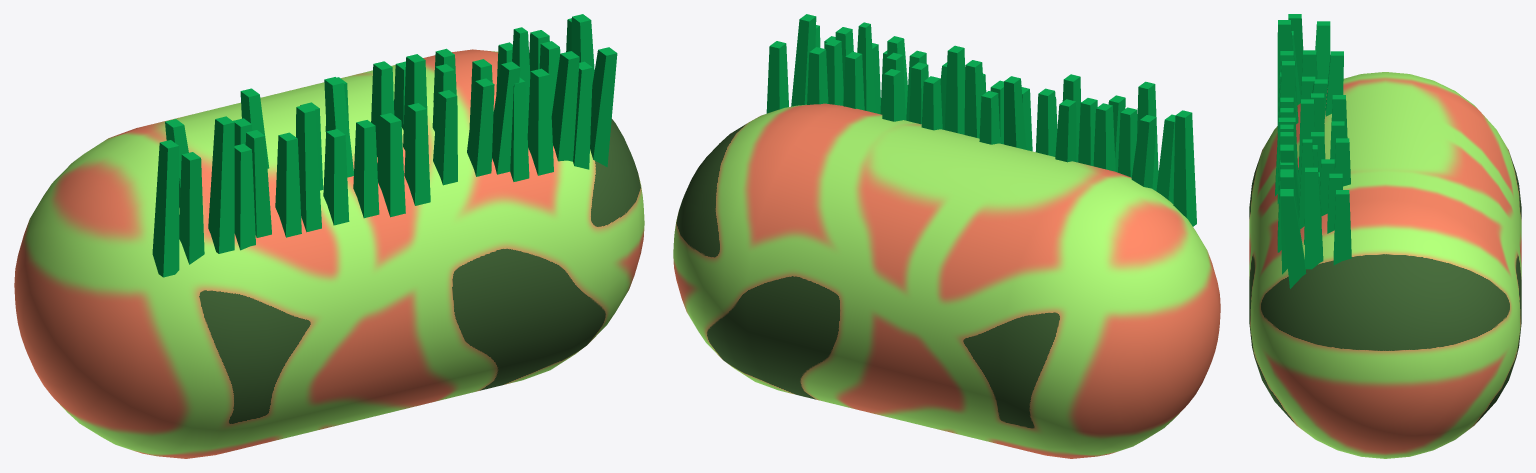
Rendered from block_green.glb.
3 views of the same model, side by side, from view 1: azimuth 30°, elevation 25°; view 2: azimuth 150°, elevation 25°; view 3: azimuth 270°, elevation 25° (orthographic). The views are drawn at different scales.
Visible parts, largest first — view 1: block, grass; view 2: block, grass; view 3: block, grass.
Boxes of the visible parts, x1,y1,x2,y2 form: block: [14, 49, 644, 458]; grass: [152, 14, 617, 277]; block: [673, 103, 1220, 458]; grass: [766, 14, 1196, 226]; block: [1249, 72, 1521, 458]; grass: [1275, 14, 1351, 288].
Size of the model in its own units: 2 by 1.23 by 1.
2 materials, 1 textured.
